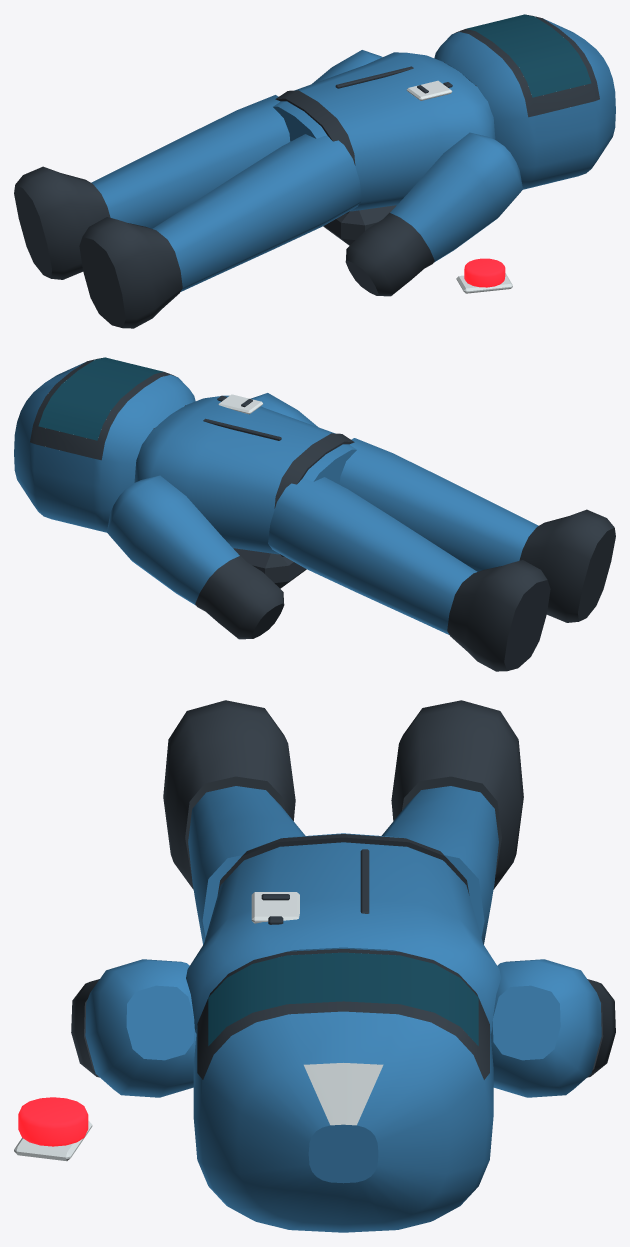
Rendered from timbas-crew-corpse.glb.
3 views of the same model, one above another, from view 1: azimuth 30°, elevation 25°; view 2: azimuth 150°, elevation 25°; view 3: azimuth 270°, elevation 25° (orthographic). The views are drawn at different scales.
Visible parts, largest first — view 1: CrewCorpseRoot · Crew Body Color, CrewCorpseRoot · Crew Dark Uniform, Helmet Shell Crew Visor.001, Report Beacon, CrewCorpseRoot · Crew Badge White; view 2: CrewCorpseRoot · Crew Body Color, CrewCorpseRoot · Crew Dark Uniform, Helmet Shell Crew Visor.001, CrewCorpseRoot · Crew Badge White; view 3: CrewCorpseRoot · Crew Body Color, CrewCorpseRoot · Crew Dark Uniform, Helmet Shell Crew Visor.001, CrewCorpseRoot · Crew Badge White, Report Beacon.
Part boxes in pixels (bbox=[...]): CrewCorpseRoot · Crew Body Color: bbox=[91, 18, 615, 291]; CrewCorpseRoot · Crew Dark Uniform: bbox=[14, 15, 599, 328]; Helmet Shell Crew Visor.001: bbox=[466, 14, 591, 97]; Report Beacon: bbox=[464, 258, 505, 287]; CrewCorpseRoot · Crew Badge White: bbox=[406, 80, 512, 293]; CrewCorpseRoot · Crew Body Color: bbox=[14, 361, 538, 634]; CrewCorpseRoot · Crew Dark Uniform: bbox=[30, 358, 615, 671]; Helmet Shell Crew Visor.001: bbox=[38, 357, 163, 440]; CrewCorpseRoot · Crew Badge White: bbox=[218, 394, 262, 414]; CrewCorpseRoot · Crew Body Color: bbox=[85, 786, 601, 1232]; CrewCorpseRoot · Crew Dark Uniform: bbox=[71, 700, 615, 1079]; Helmet Shell Crew Visor.001: bbox=[208, 952, 478, 1045]; CrewCorpseRoot · Crew Badge White: bbox=[14, 892, 383, 1161]; Report Beacon: bbox=[18, 1097, 88, 1146].
Size of the model in its own units: 1.96 by 0.559 by 1.12.
